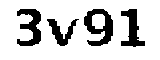1: (118, 7, 148, 53)
3: (12, 4, 45, 51)
9: (83, 4, 116, 51)
v: (46, 15, 79, 51)
